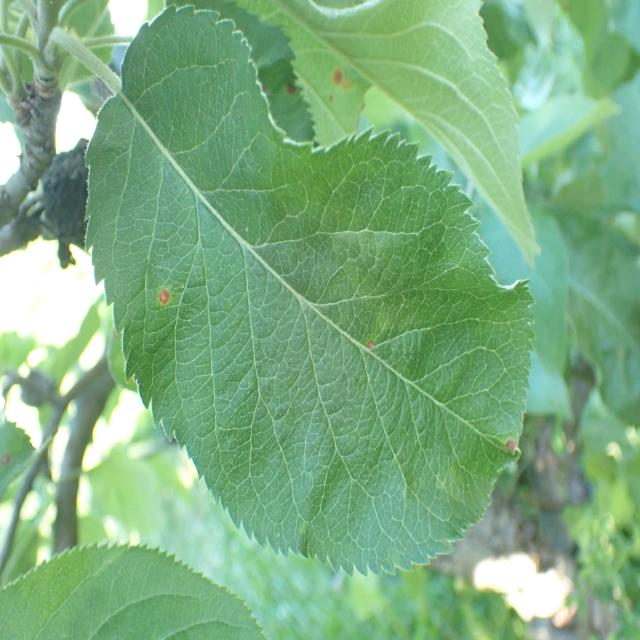frog-eye-leaf-spot: (84, 4, 536, 582)
